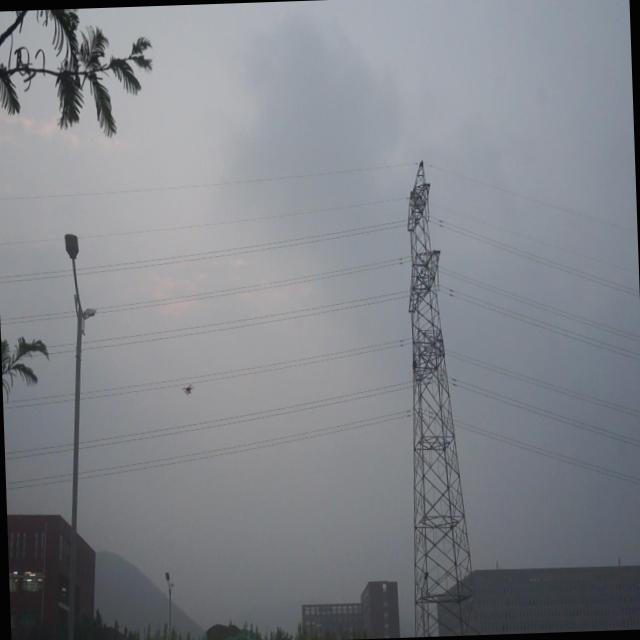drone: (182, 379, 195, 396)
